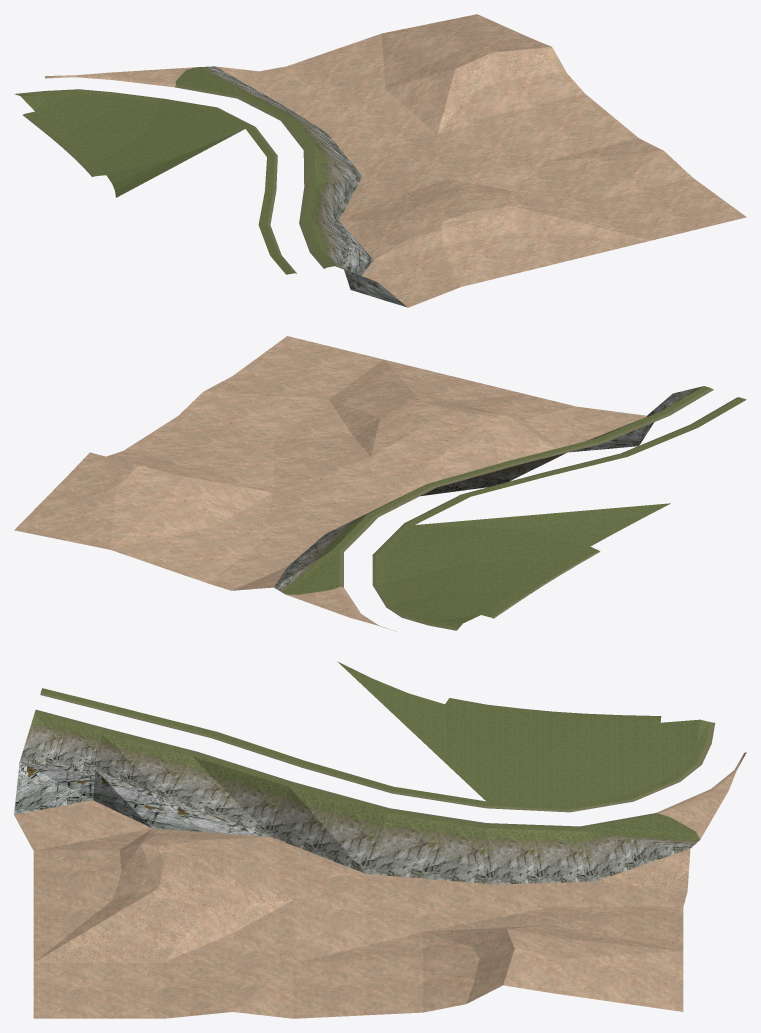
File: cs_landbit_55.obj
The picture shows the model from 3 angles, top to bottom: view 1: azimuth 30°, elevation 25°; view 2: azimuth 150°, elevation 25°; view 3: azimuth 270°, elevation 25°; orthographic projection. The views are drawn at different scales.
Parts seen in each view (by area): view 1: cs_landbit_55; view 2: cs_landbit_55; view 3: cs_landbit_55.
Boxes of the visible parts, left/top/right/bottom form: cs_landbit_55: left=14, top=14, right=746, bottom=307; cs_landbit_55: left=14, top=336, right=746, bottom=631; cs_landbit_55: left=14, top=661, right=746, bottom=1018.
Size of the model in its own units: 243 by 23.83 by 253.
6 materials, 6 textured.
